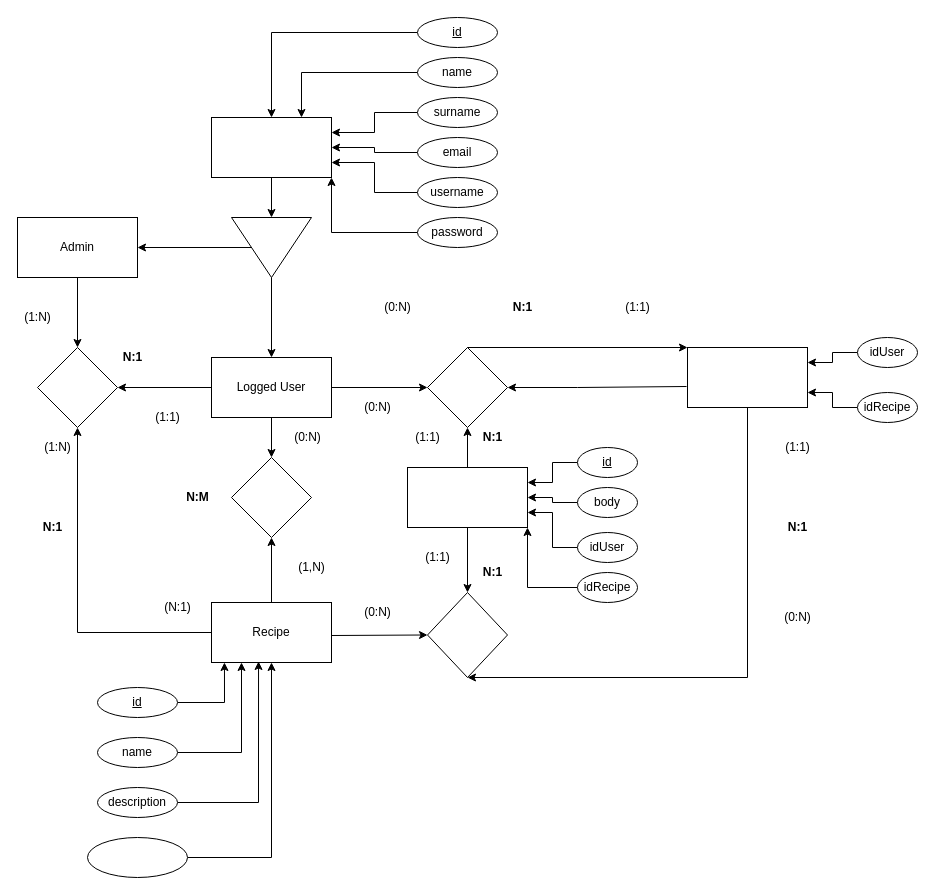
This 935x895 diagram has some shape labels left out. The centre of each missing label's shape, as x and y in pixels:
Comments: point 467,497
Delete: point 77,387
Have: point 467,635
idRecetaOriginal: point 137,857
Likes: point 747,377
Person: point 271,147
Release: point 467,387
Share: point 271,497
